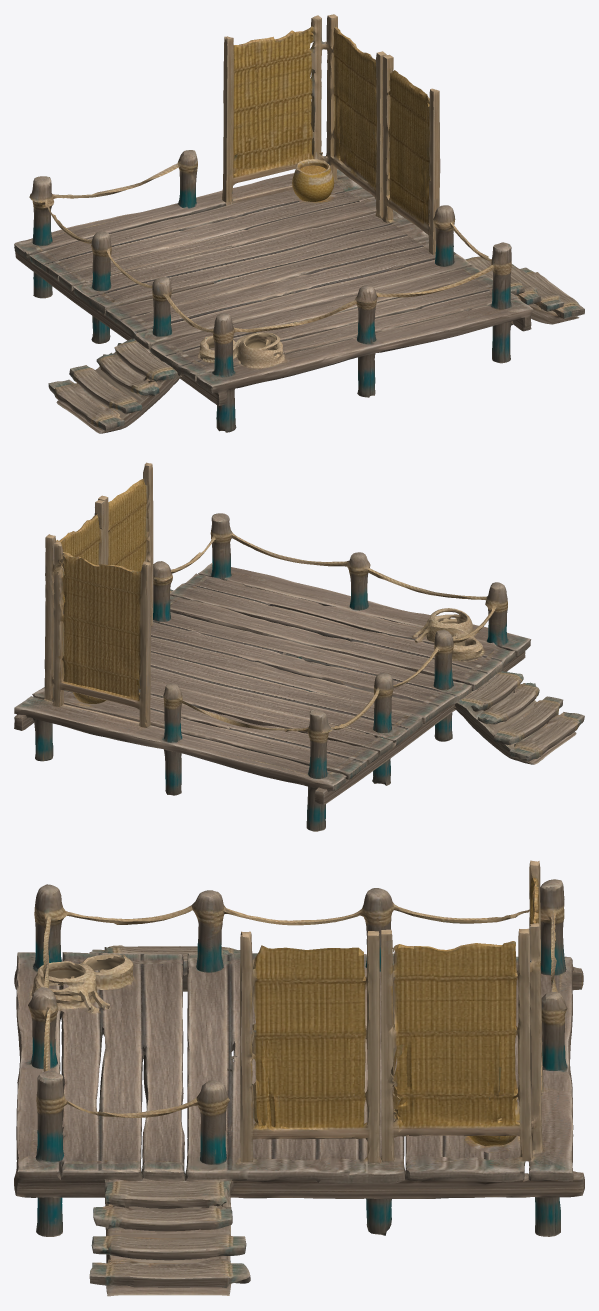
The model's file is tidewake_boardwalk_terrace.glb.
3 renders of one model, top to bottom at view 1: azimuth 30°, elevation 25°; view 2: azimuth 150°, elevation 25°; view 3: azimuth 270°, elevation 25°, orthographic. The views are drawn at different scales.
Visible parts, largest first — view 1: Mesh_0; view 2: Mesh_0; view 3: Mesh_0.
Boxes of the visible parts, bbox=[...] form: Mesh_0: bbox=[14, 14, 584, 433]; Mesh_0: bbox=[14, 462, 584, 831]; Mesh_0: bbox=[14, 860, 584, 1296].
Bounding box in the file's own units: 8 × 3.45 × 5.87.
Materials: 1 (1 with a texture image).
